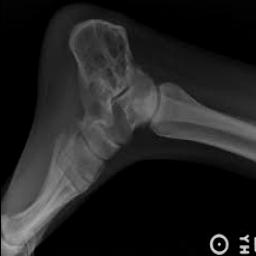cancer: (68, 17, 134, 125)
